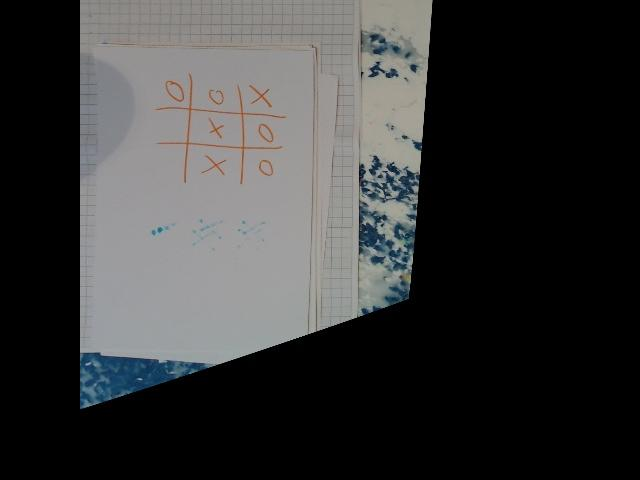O: (162, 77, 188, 104), (252, 154, 277, 178), (253, 119, 276, 143), (207, 84, 227, 106)
X: (246, 82, 276, 108), (201, 150, 229, 176), (202, 115, 226, 139)
grid: (156, 73, 284, 188)
